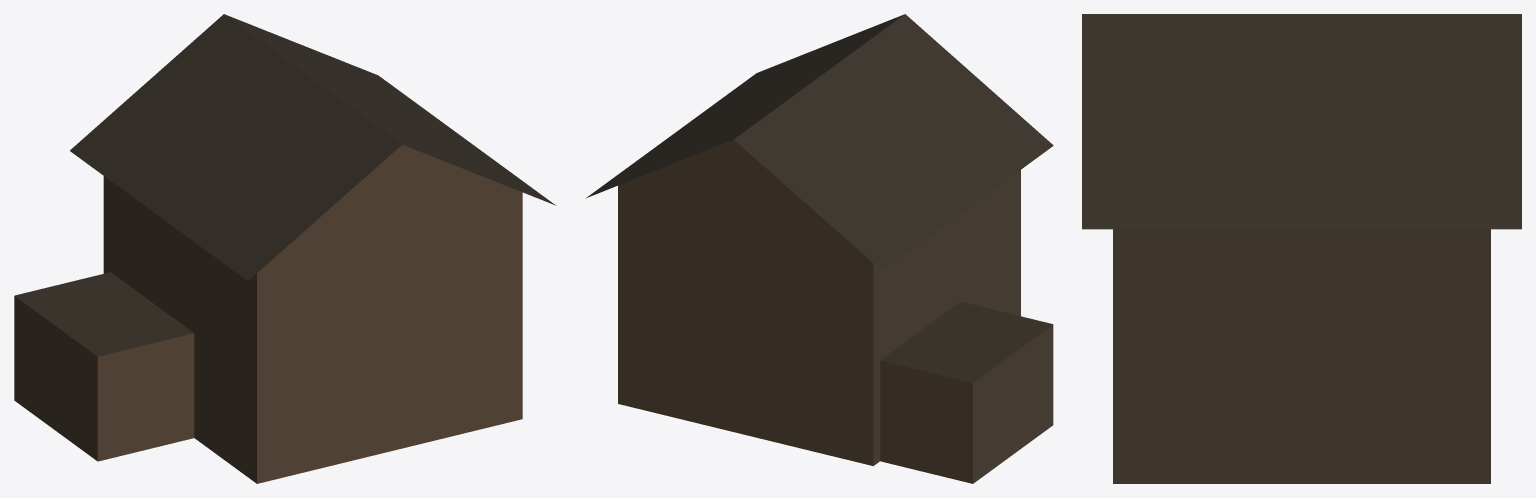
Rendered from rw-chalet.far-facades-v3.lod2.glb.
The picture shows the model from 3 angles, left to right: view 1: azimuth 30°, elevation 25°; view 2: azimuth 150°, elevation 25°; view 3: azimuth 270°, elevation 25°; orthographic projection. The views are drawn at different scales.
Parts seen in each view (by area): view 1: rw-chalet; view 2: rw-chalet; view 3: rw-chalet.
Part boxes in pixels (<box>): rw-chalet: <box>14,14,555,483</box>; rw-chalet: <box>585,14,1053,483</box>; rw-chalet: <box>1082,14,1521,483</box>.
Size of the model in its own units: 15.9 by 12.52 by 12.8.
